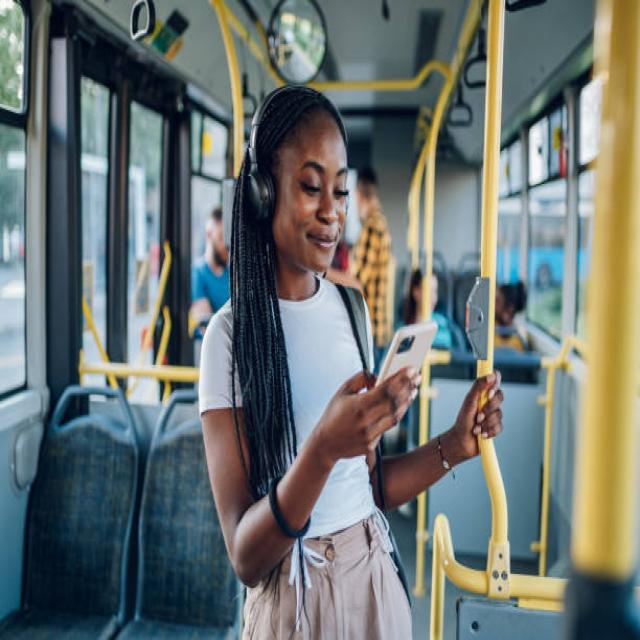empty-seat-frontal: (0, 387, 145, 640)
